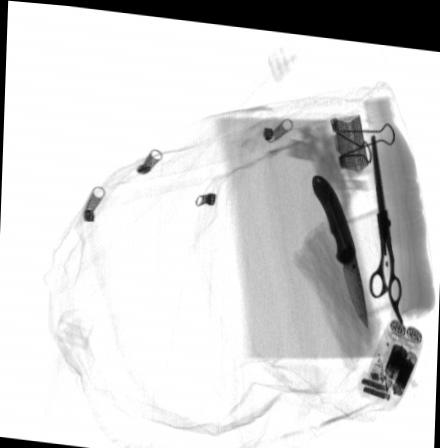Knife: (311, 167, 368, 322)
Scissors: (368, 124, 403, 317)
